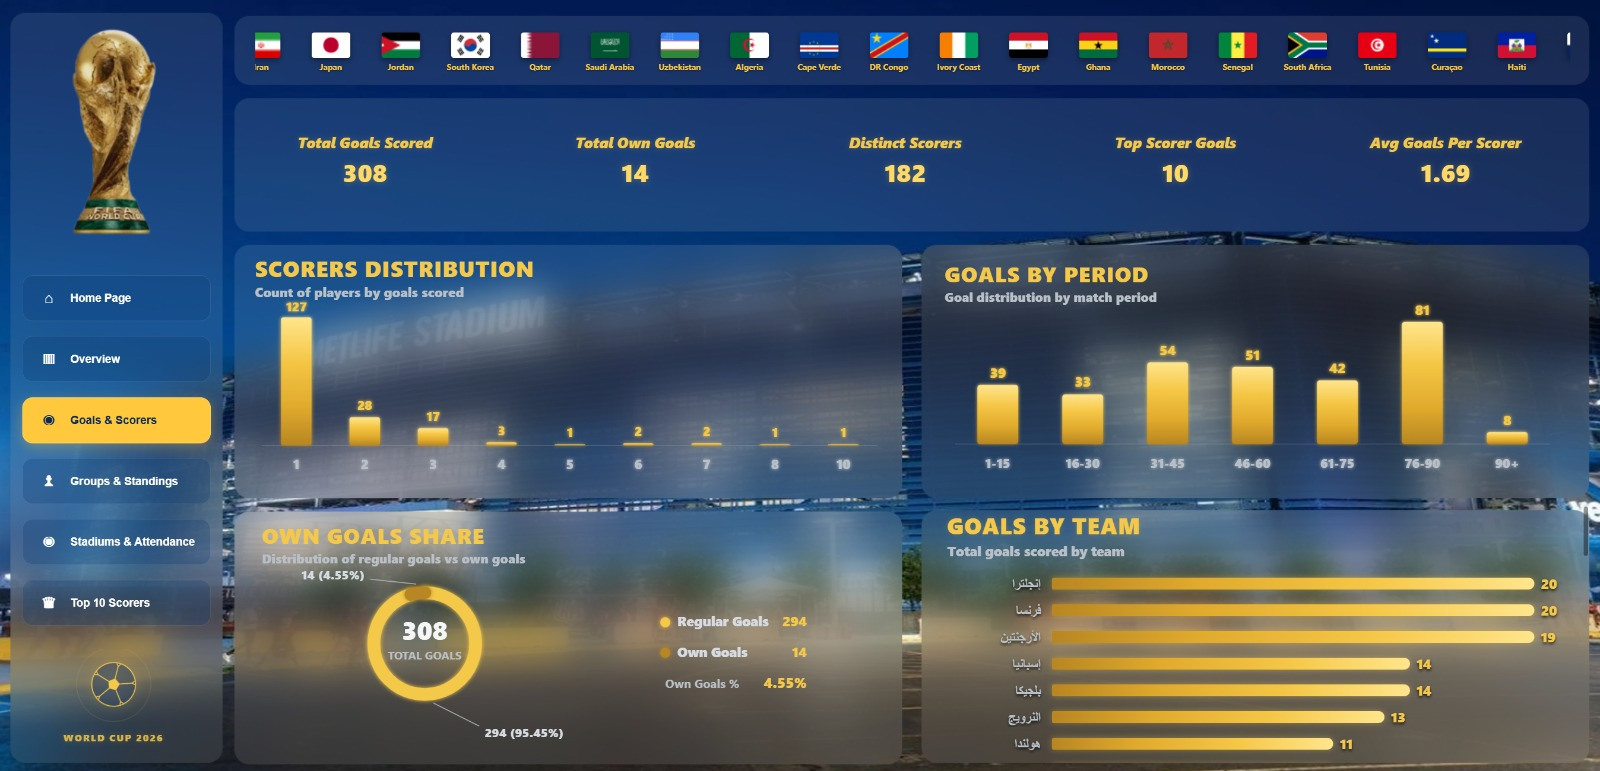

What the dashboard file says about the page in this screenshot:
{"tool":"powerbi","page":{"name":"Goals & Scorers","canvas":[2162,1045],"ordinal":2},"visuals":[{"type":"htmlContent443BE3AD55E043BF878BED274D3A6855","fields":{"content":["HTML Dax.Goals KPIs HTML"]},"box":[313,163,1820,166.7],"z":0},{"type":"htmlContent443BE3AD55E043BF878BED274D3A6855","fields":{"content":["HTML Dax.Scorers Distribution HTML"]},"box":[312.5,327.5,910,340],"z":1000},{"type":"htmlContent443BE3AD55E043BF878BED274D3A6855","fields":{"content":["HTML Dax.Goals By Period HTML"]},"box":[1242.5,335,890,332.5],"z":2000},{"type":"htmlContent443BE3AD55E043BF878BED274D3A6855","fields":{"content":["HTML Dax.Own Goals Donut HTML"]},"box":[322,688,890,358],"z":3000},{"type":"htmlContent443BE3AD55E043BF878BED274D3A6855","fields":{"content":["HTML Dax.Goals By Team HTML"]},"box":[1242,668,920,378],"z":4000},{"type":"htmlContent443BE3AD55E043BF878BED274D3A6855","fields":{"content":["HTML Dax.Page Navigation HTML"]},"box":[4,338,314,668],"z":5000},{"type":"htmlContent443BE3AD55E043BF878BED274D3A6855","fields":{"content":["HTML DAX.Teams Marquee 4"]},"box":[332,22,1804,104],"z":6000},{"type":"actionButton","box":[98,396,84,16],"z":7000},{"type":"actionButton","box":[96,478,72,16],"z":8000},{"type":"actionButton","box":[98,642,146,16],"z":9000},{"type":"actionButton","box":[96,722,172,18],"z":10000},{"type":"actionButton","box":[96,806,112,18],"z":11000},{"type":"htmlContent443BE3AD55E043BF878BED274D3A6855","fields":{"content":["HTML DAX.Sidebar Decoration HTML 3"]},"box":[0,861,314,184],"z":11001}]}

Visuals, with their boxes in screenshot pixels (x1, y1, x2, y2), scaled from the page's 2162x1045 canvas onto the 1600x771 screenshot:
htmlContent443BE3AD55E043BF878BED274D3A6855 - HTML Dax.Goals KPIs HTML: [232, 120, 1579, 243]
htmlContent443BE3AD55E043BF878BED274D3A6855 - HTML Dax.Scorers Distribution HTML: [231, 242, 905, 492]
htmlContent443BE3AD55E043BF878BED274D3A6855 - HTML Dax.Goals By Period HTML: [920, 247, 1578, 492]
htmlContent443BE3AD55E043BF878BED274D3A6855 - HTML Dax.Own Goals Donut HTML: [238, 508, 897, 770]
htmlContent443BE3AD55E043BF878BED274D3A6855 - HTML Dax.Goals By Team HTML: [919, 493, 1599, 770]
htmlContent443BE3AD55E043BF878BED274D3A6855 - HTML Dax.Page Navigation HTML: [3, 249, 235, 742]
htmlContent443BE3AD55E043BF878BED274D3A6855 - HTML DAX.Teams Marquee 4: [246, 16, 1581, 93]
actionButton: [73, 292, 135, 304]
actionButton: [71, 353, 124, 364]
actionButton: [73, 474, 181, 485]
actionButton: [71, 533, 198, 546]
actionButton: [71, 595, 154, 608]
htmlContent443BE3AD55E043BF878BED274D3A6855 - HTML DAX.Sidebar Decoration HTML 3: [0, 635, 232, 770]
